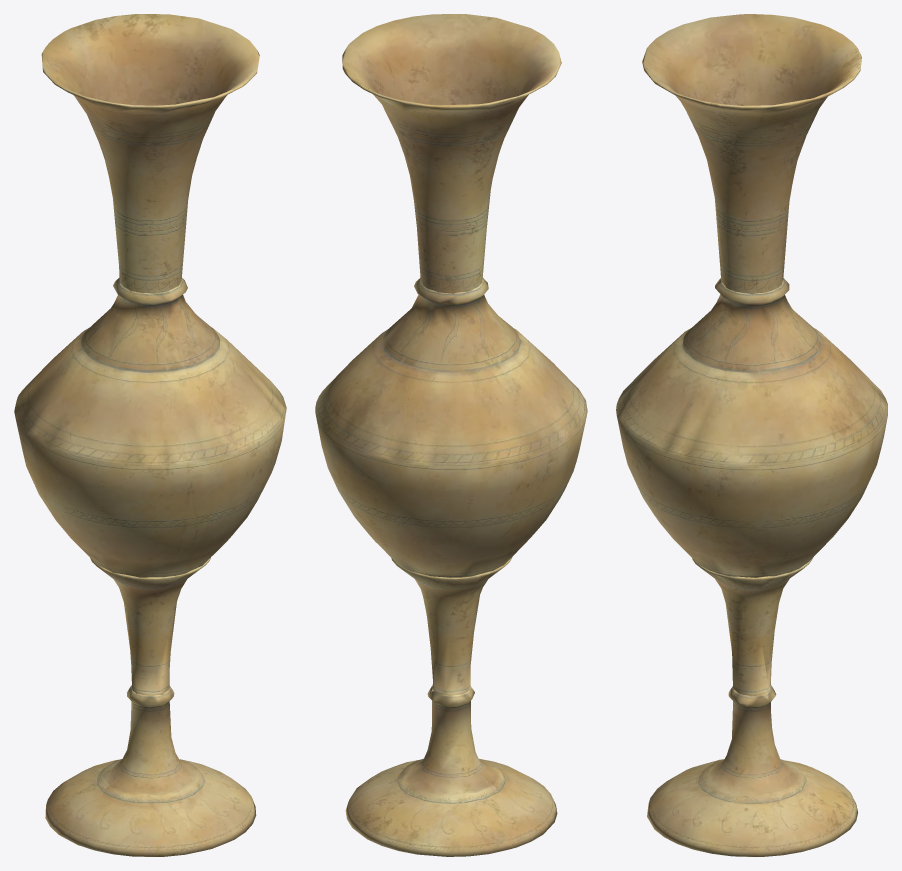
The model's file is brass_vase_01.glb.
3 views of the same model, side by side, from view 1: azimuth 30°, elevation 25°; view 2: azimuth 150°, elevation 25°; view 3: azimuth 270°, elevation 25° (orthographic).
Parts seen in each view (by area): view 1: brass_vase_01; view 2: brass_vase_01; view 3: brass_vase_01.
Boxes of the visible parts, bbox=[...] form: brass_vase_01: bbox=[14, 14, 286, 856]; brass_vase_01: bbox=[315, 14, 587, 856]; brass_vase_01: bbox=[616, 14, 887, 856].
Size of the model in its own units: 0.2273 by 0.6925 by 0.2267.
1 material, 1 textured.
